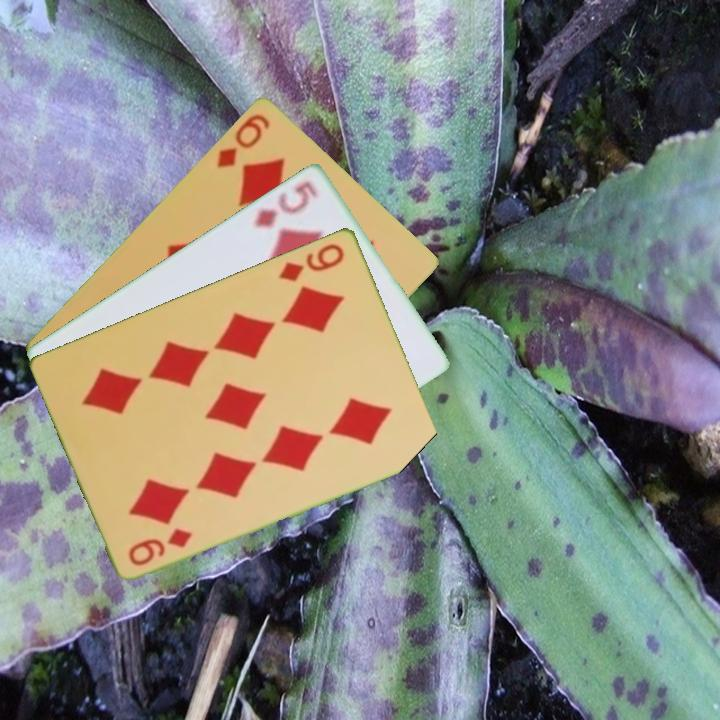5d: (250, 176, 322, 230)
6d: (213, 109, 273, 171)
9d: (275, 239, 347, 284), (125, 524, 195, 569)
